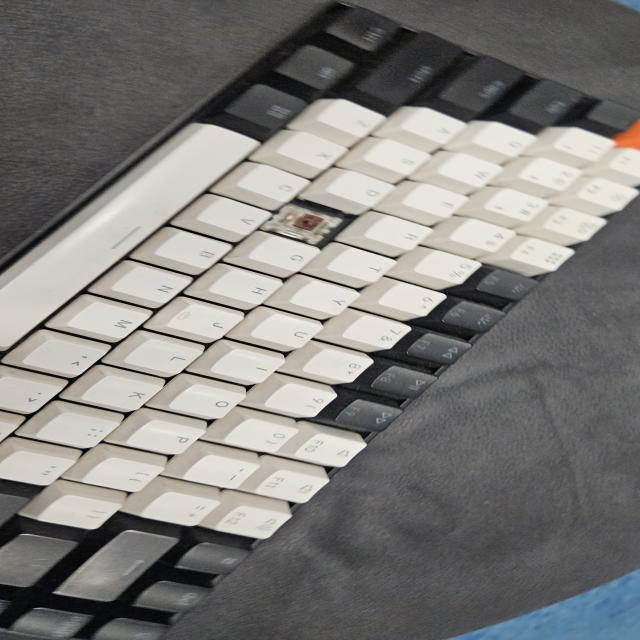C: (281, 207, 327, 239)
